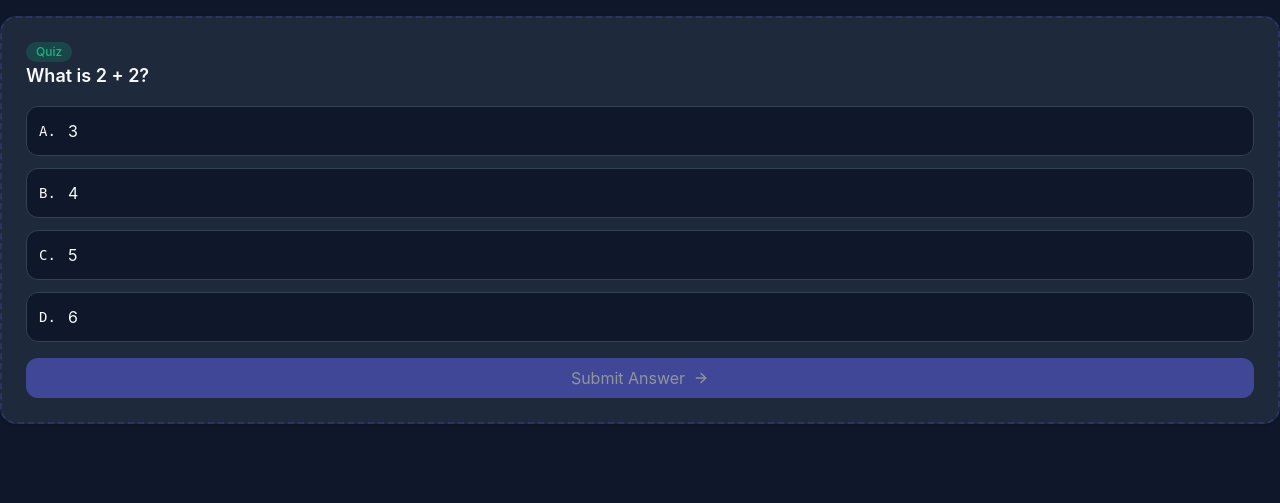
Scenario: QuizWidget › allows retry after submission
This screenshot has width=1280, height=503.
// Select wrong answer
Click the text "3" at (73, 131), box left=68, top=119, right=78, bottom=143
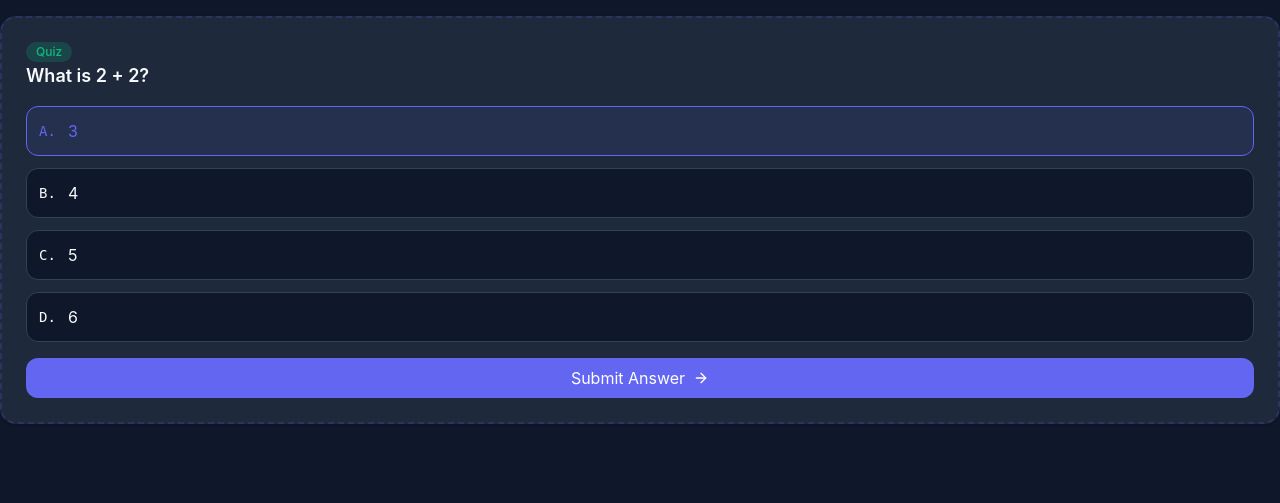
Click the button "Submit Answer" at (640, 378), box left=26, top=358, right=1254, bottom=398
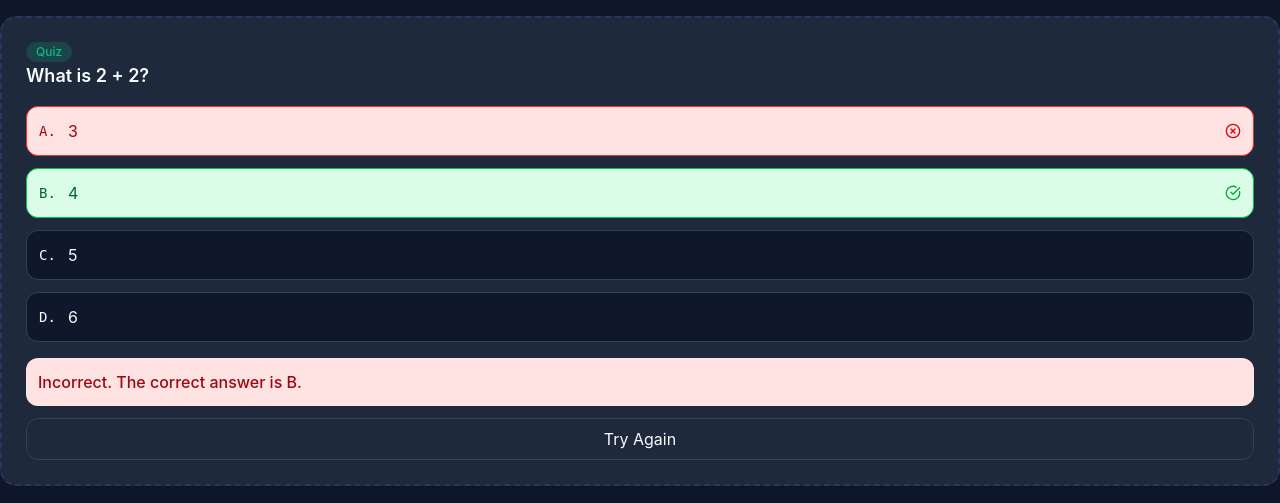
// Click try again
Click the button "Try Again" at (640, 439), box left=26, top=418, right=1254, bottom=460
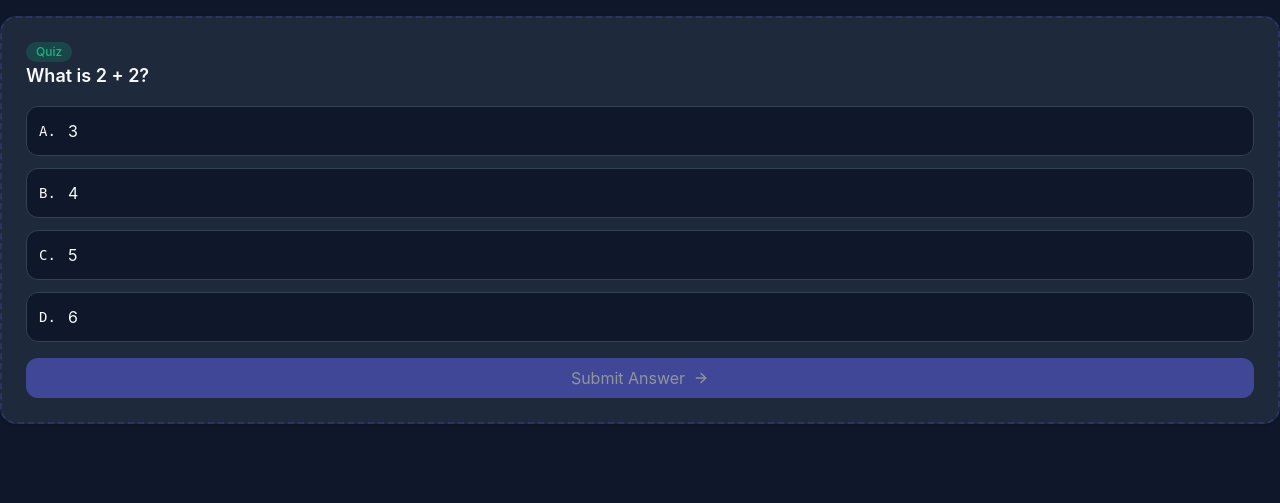
Expected: the heading "What is 2 + 2?" is shown, left=26, top=65, right=149, bottom=86
Expected: the button "Submit Answer" is disabled, left=26, top=358, right=1254, bottom=398
